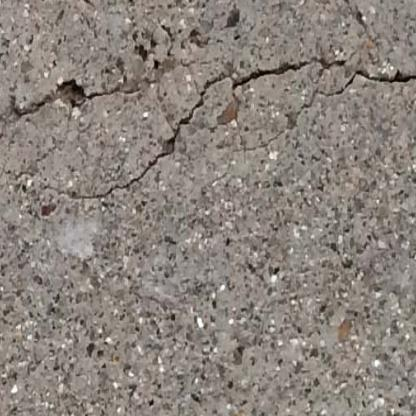Cracks: (75, 54, 416, 205), (9, 77, 147, 122)
